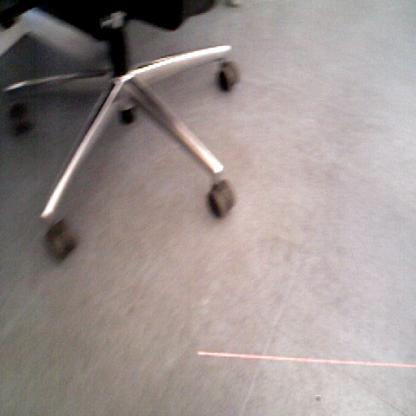mark: (315, 395, 321, 402)
